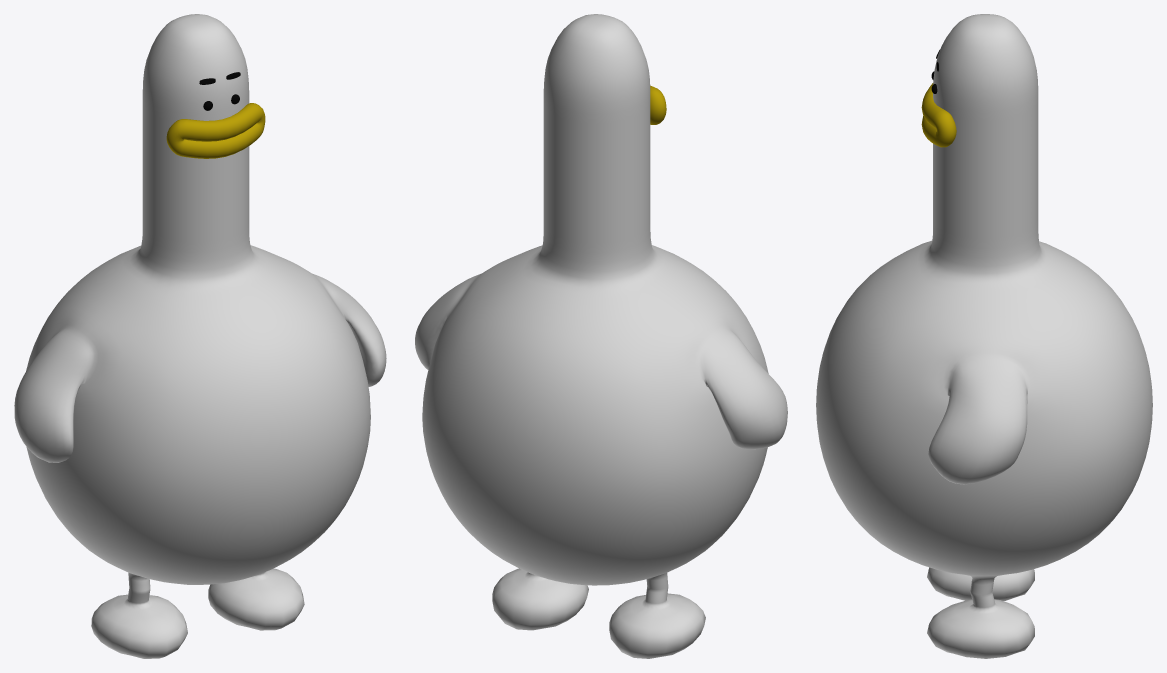
The model's file is induck.fbx.
3 renders of one model, left to right at view 1: azimuth 30°, elevation 25°; view 2: azimuth 150°, elevation 25°; view 3: azimuth 270°, elevation 25°, orthographic.
Visible parts, largest first — view 1: polySurface1150, polySurface1149; view 2: polySurface1150, polySurface1149; view 3: polySurface1150, polySurface1149.
Boxes of the visible parts, x1=… form: polySurface1150: x1=14, y1=14, x2=386, y2=658; polySurface1149: x1=166, y1=103, x2=265, y2=158; polySurface1150: x1=415, y1=14, x2=787, y2=658; polySurface1149: x1=650, y1=85, x2=666, y2=124; polySurface1150: x1=816, y1=14, x2=1152, y2=658; polySurface1149: x1=921, y1=83, x2=956, y2=147.
Size of the model in its own units: 265 by 434 by 220.
